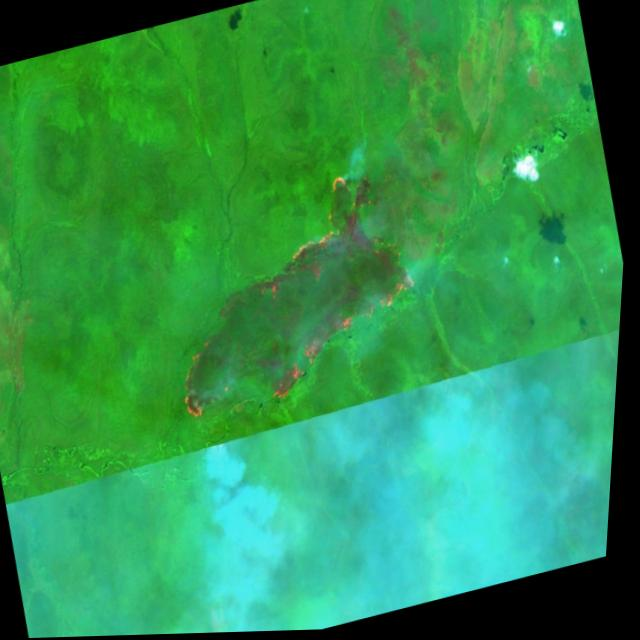fire: (142, 160, 445, 430)
